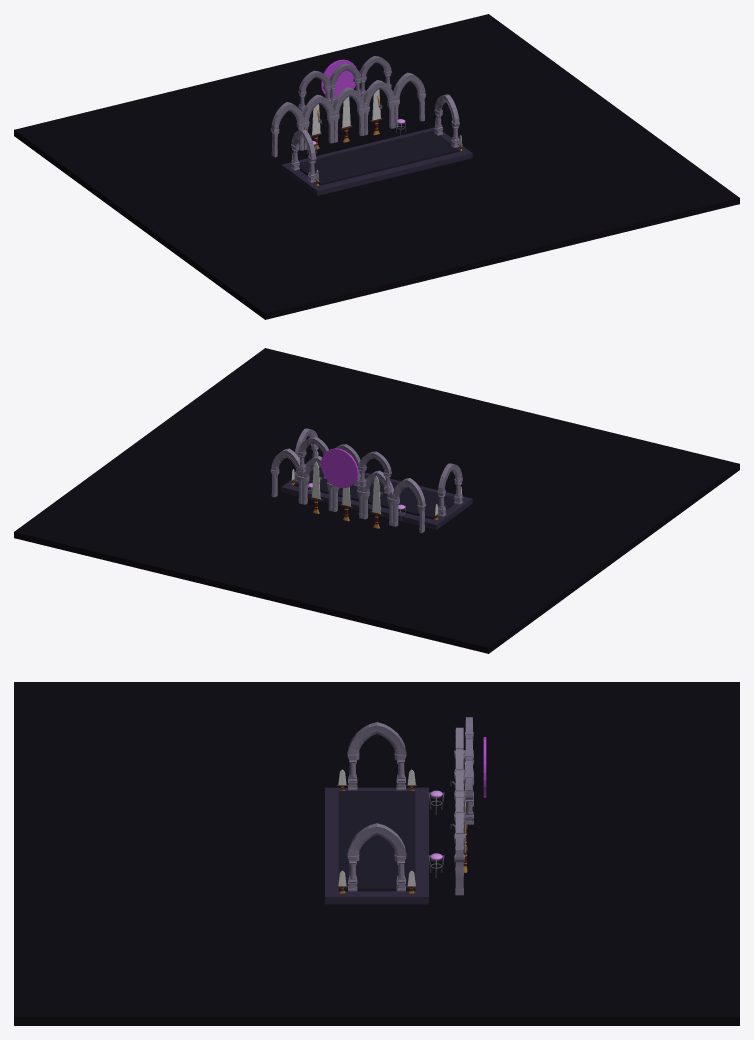
Rendered from cathedral_retribution.glb.
3 renders of one model, top to bottom at view 1: azimuth 30°, elevation 25°; view 2: azimuth 150°, elevation 25°; view 3: azimuth 270°, elevation 25°, orthographic. The views are drawn at different scales.
Visible parts, largest first — view 1: mesh 1, mesh 0; view 2: mesh 1, mesh 0; view 3: mesh 1, mesh 0.
Part boxes in pixels (x1,y1,x2,y2): mesh 1: (14, 14, 739, 319); mesh 0: (299, 130, 459, 185); mesh 1: (14, 348, 739, 653); mesh 0: (294, 466, 454, 519); mesh 1: (14, 682, 739, 1025); mesh 0: (338, 791, 415, 891).
Size of the model in its own units: 48 by 7.97 by 44.
